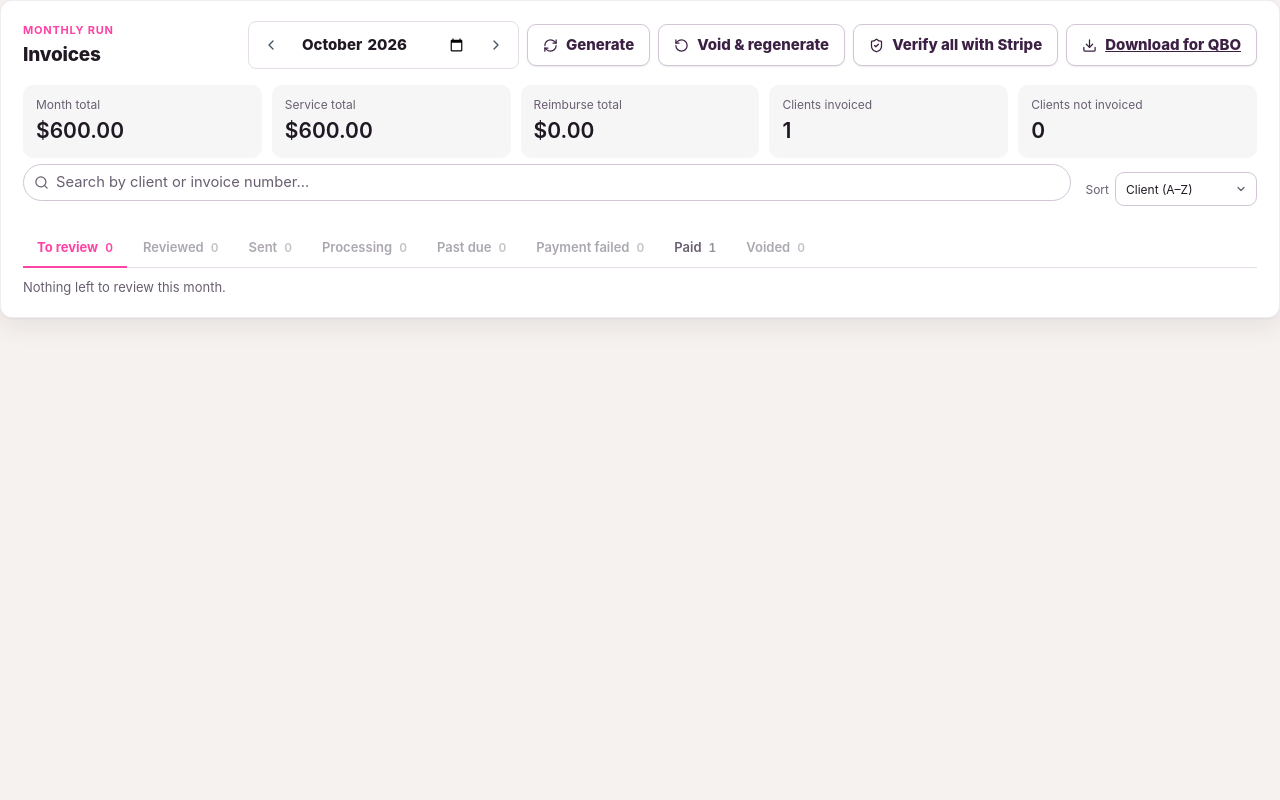
it: the Send reminder button › is disabled on a paid invoice: "Nothing is owed"
This screenshot has width=1280, height=800.
Step 1. Click the tab "Paid 1" → (695, 249), box x1=660 y1=229 x2=730 y2=268
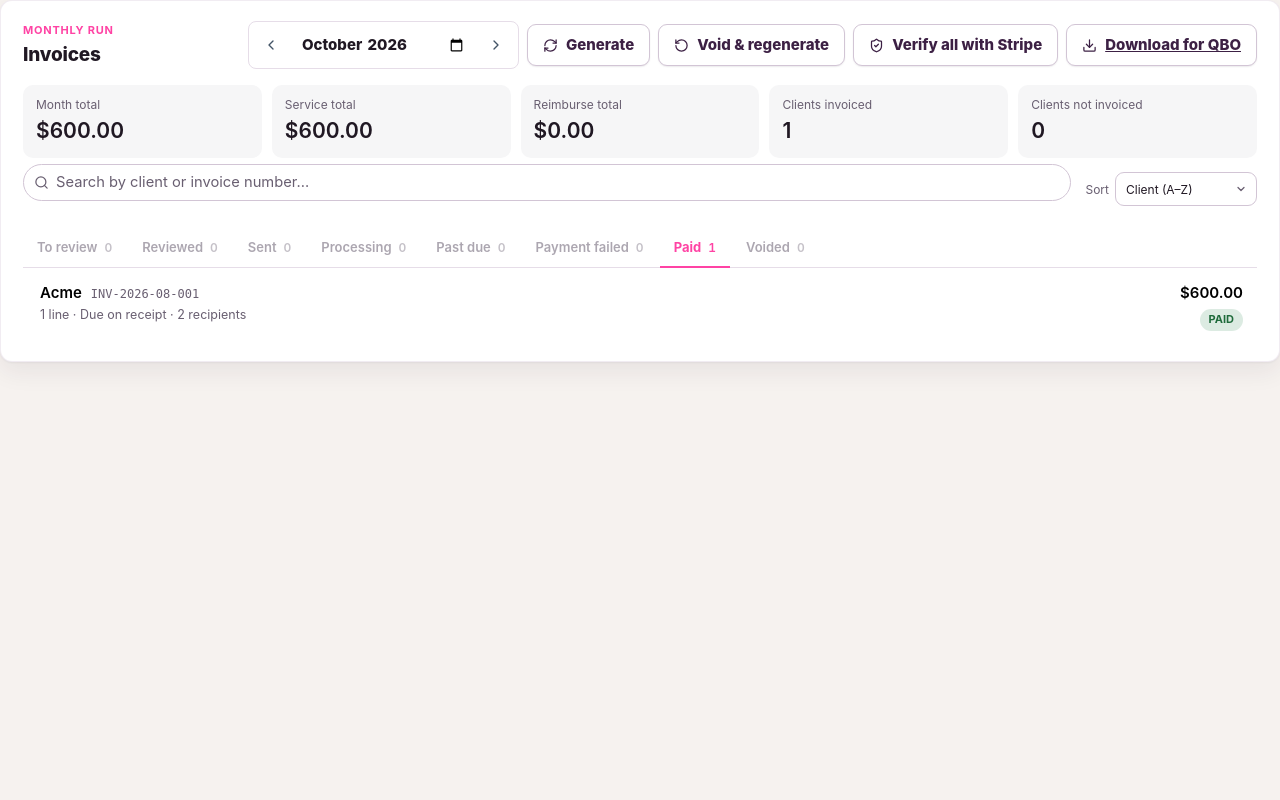
Step 2. Click the text "INV-2026-08-001" → (145, 295), box x1=91 y1=286 x2=199 y2=303
(page scrolled)
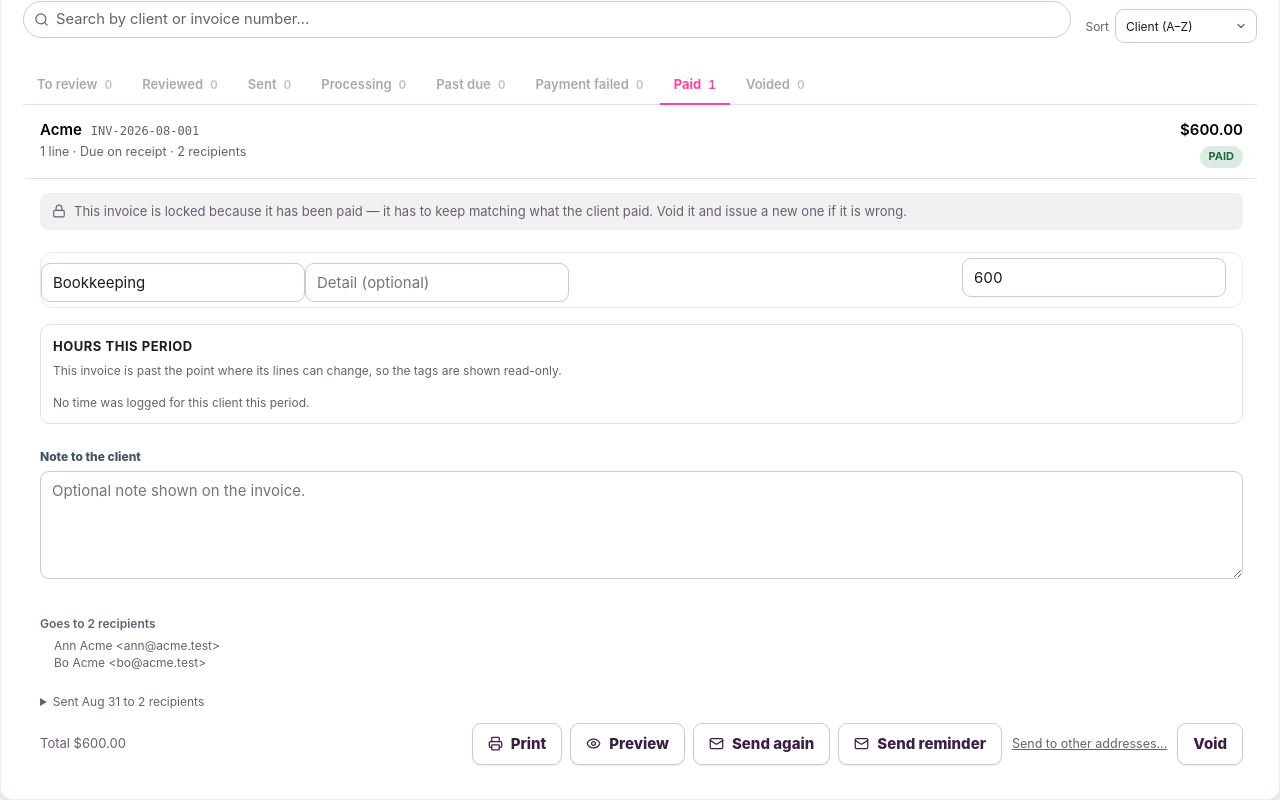
Check: the button "Send reminder" is disabled, box x1=838 y1=723 x2=1002 y2=765
